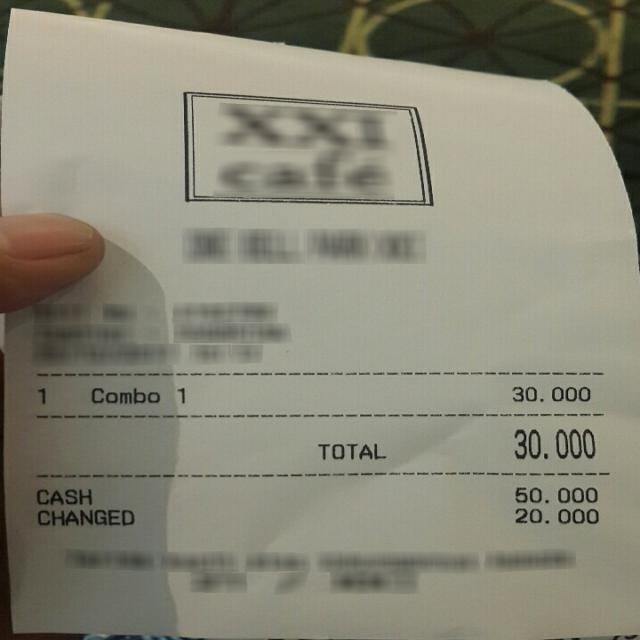text: (512, 428, 593, 458), (36, 508, 132, 524), (514, 486, 596, 502), (514, 508, 597, 523), (512, 386, 588, 400), (90, 387, 157, 402), (317, 444, 384, 458), (36, 489, 90, 504), (36, 386, 48, 404), (177, 388, 187, 403)
